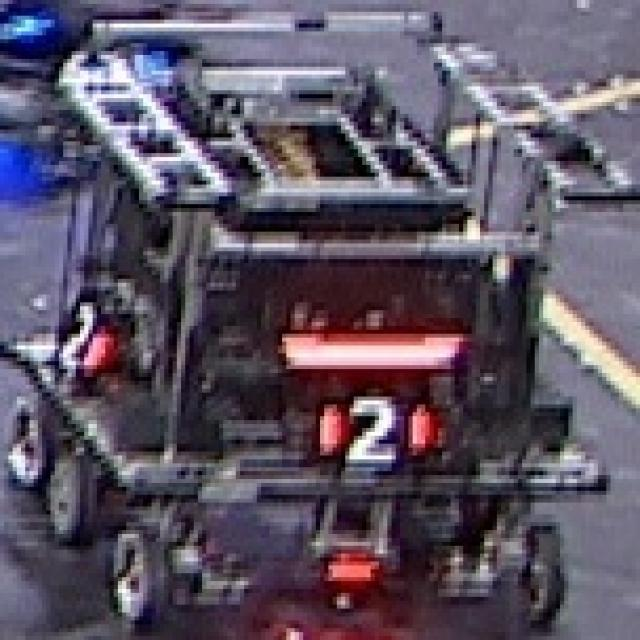R2: (312, 393, 429, 467)
